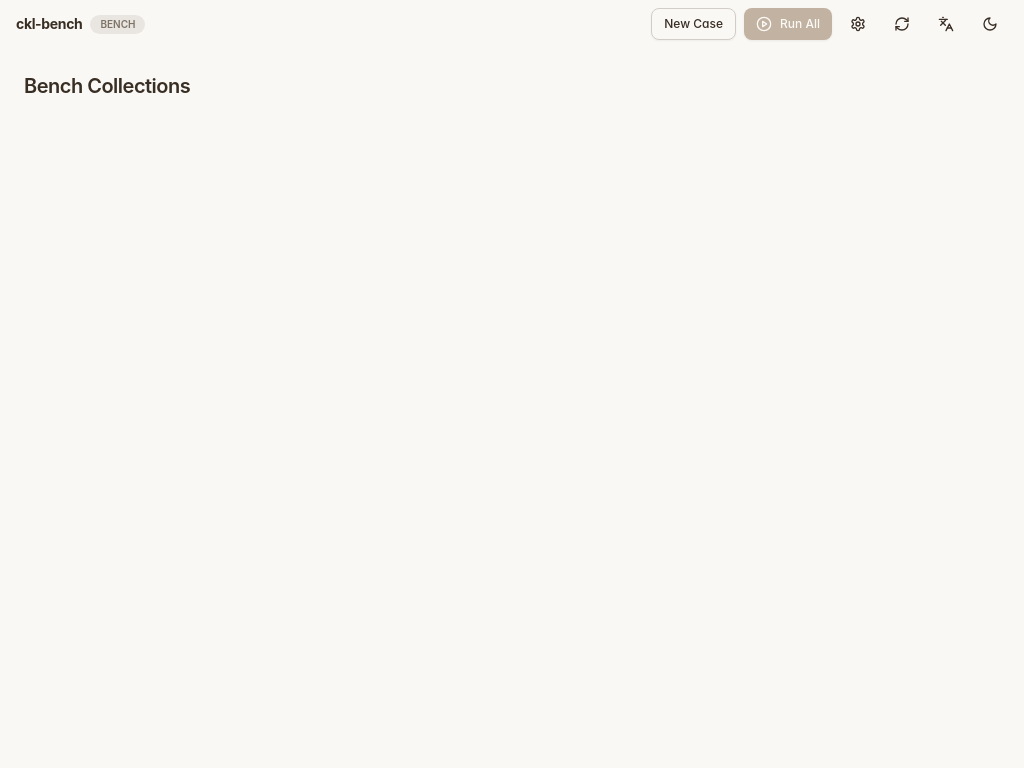
BenchPage case creation › opens the global case editor from New Case
Click the button "New Case" at [694, 24], box [651, 8, 736, 40]
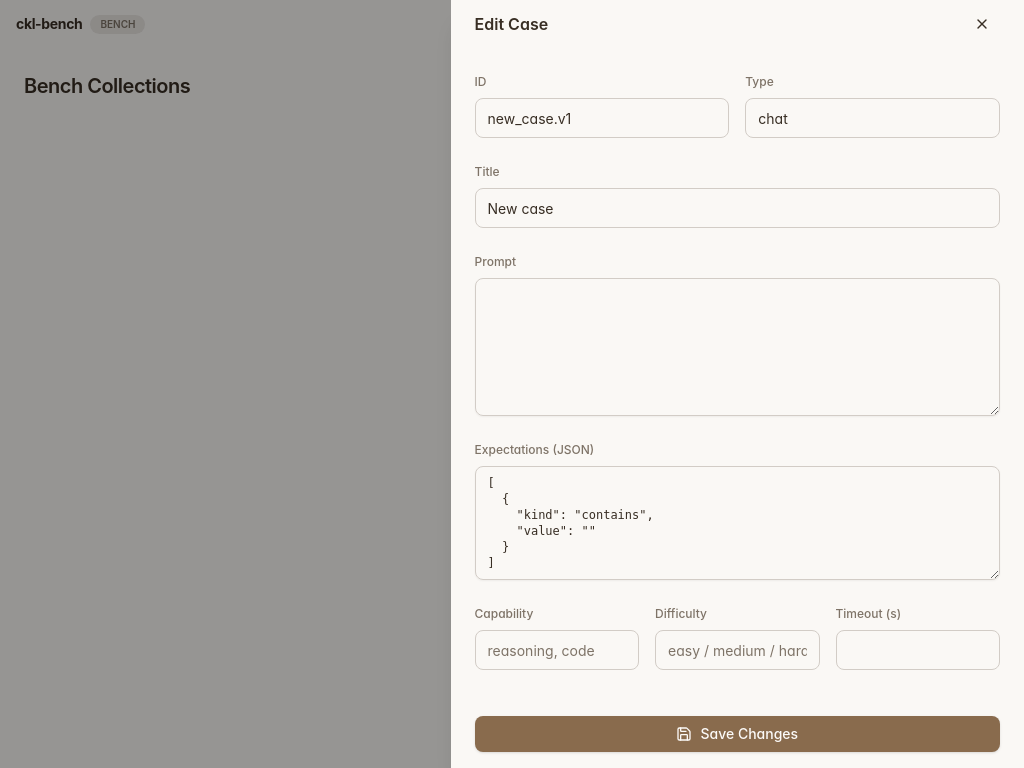
Expected: the field showing "new_case.v1" below "ID" is shown, [475, 98, 729, 138]
